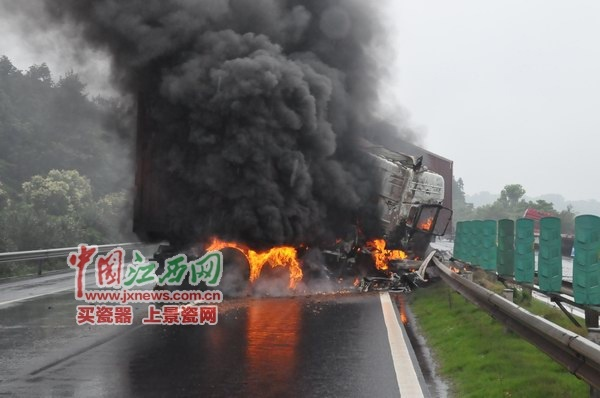fire: (208, 235, 304, 283), (369, 237, 407, 267)
